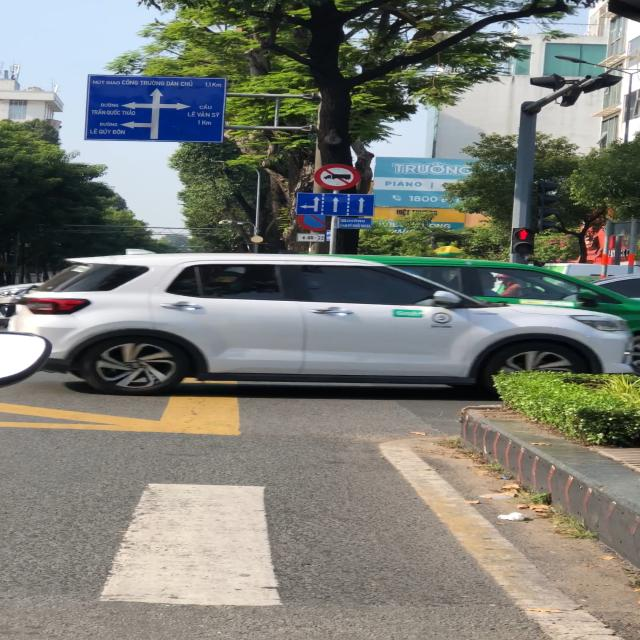Bien bao cam xe so-mi ro-mooc: (309, 164, 361, 192)
